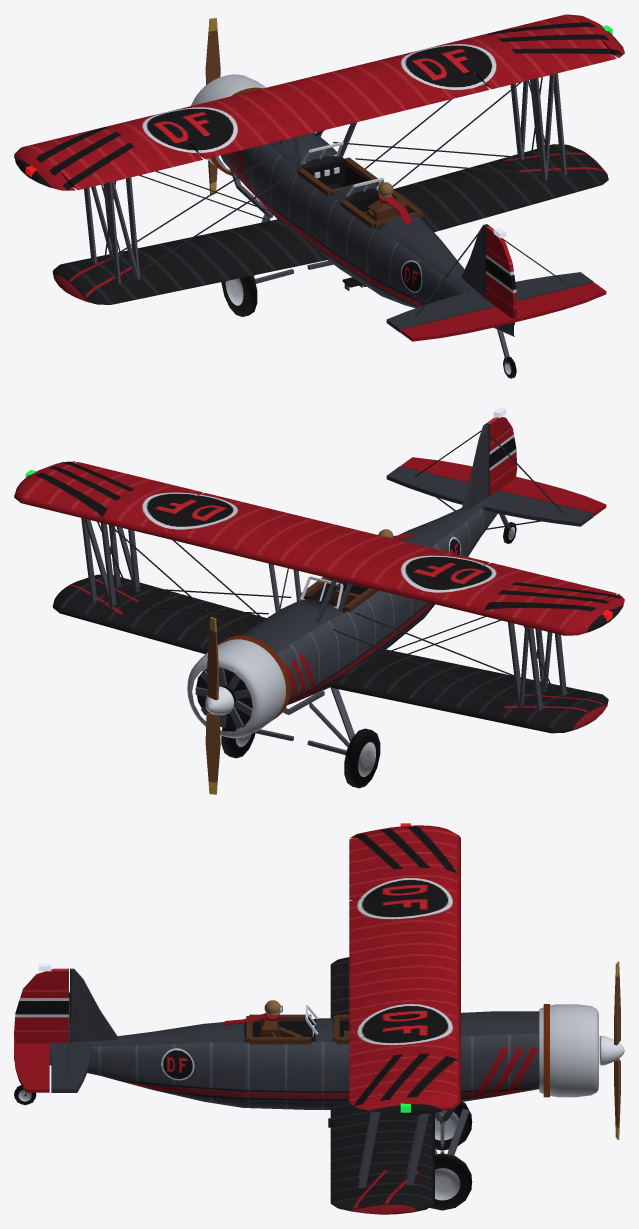
Rendered from biplane.360a9509.glb.
3 renders of one model, top to bottom at view 1: azimuth 30°, elevation 25°; view 2: azimuth 150°, elevation 25°; view 3: azimuth 270°, elevation 25°, orthographic.
Parts seen in each view (by area): view 1: plane_lod0_body, plane_lod1_body, elevator_mesh (×2), aileron_r_mesh, aileron_l_mesh, rudder_mesh, pilot_mesh, prop_mesh; view 2: plane_lod0_body, plane_lod1_body, elevator_mesh (×2), rudder_mesh, prop_mesh, aileron_l_mesh, aileron_r_mesh; view 3: plane_lod0_body, plane_lod1_body, rudder_mesh, aileron_l_mesh, aileron_r_mesh, elevator_mesh, pilot_mesh, prop_mesh.
Boxes of the visible parts, <box> form: plane_lod0_body: <box>14,14,624,378</box>; plane_lod1_body: <box>14,14,624,377</box>; elevator_mesh (×2): <box>400,282,606,341</box>; aileron_r_mesh: <box>476,41,616,89</box>; aileron_l_mesh: <box>62,142,202,190</box>; rudder_mesh: <box>486,226,517,325</box>; pilot_mesh: <box>342,182,412,290</box>; prop_mesh: <box>205,18,220,195</box>; plane_lod0_body: <box>14,424,624,787</box>; plane_lod1_body: <box>14,463,624,788</box>; elevator_mesh (×2): <box>401,457,606,516</box>; rudder_mesh: <box>486,407,517,496</box>; prop_mesh: <box>205,617,220,794</box>; aileron_l_mesh: <box>476,562,616,598</box>; aileron_r_mesh: <box>62,462,202,497</box>; plane_lod0_body: <box>14,823,624,1214</box>; plane_lod1_body: <box>14,827,598,1210</box>; rudder_mesh: <box>14,963,68,1043</box>; aileron_l_mesh: <box>349,833,380,900</box>; aileron_r_mesh: <box>349,1034,380,1101</box>; elevator_mesh: <box>14,1035,49,1092</box>; pilot_mesh: <box>223,1000,330,1127</box>; prop_mesh: <box>614,961,620,1139</box>.
Size of what is drawn, in the model's own units: 9 by 3.23 by 8.2.
2 materials, 2 textured.
